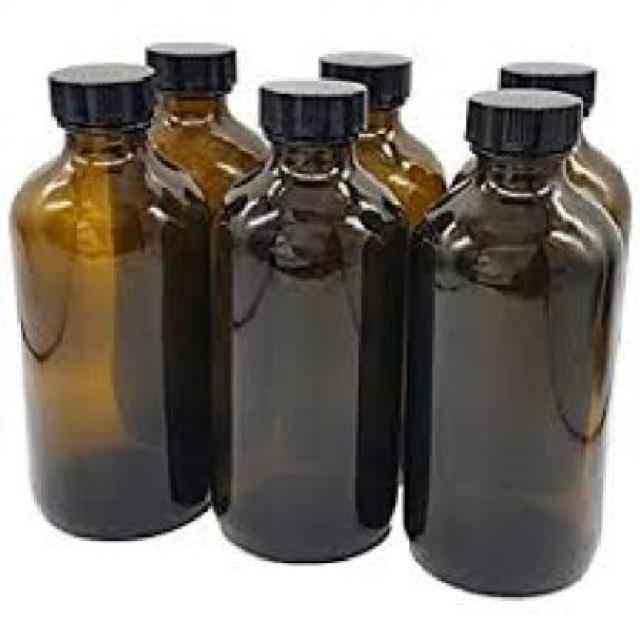kaca: (405, 151, 620, 594), (9, 120, 217, 535), (211, 143, 403, 559), (446, 130, 626, 304), (153, 94, 264, 235), (354, 103, 444, 231)
